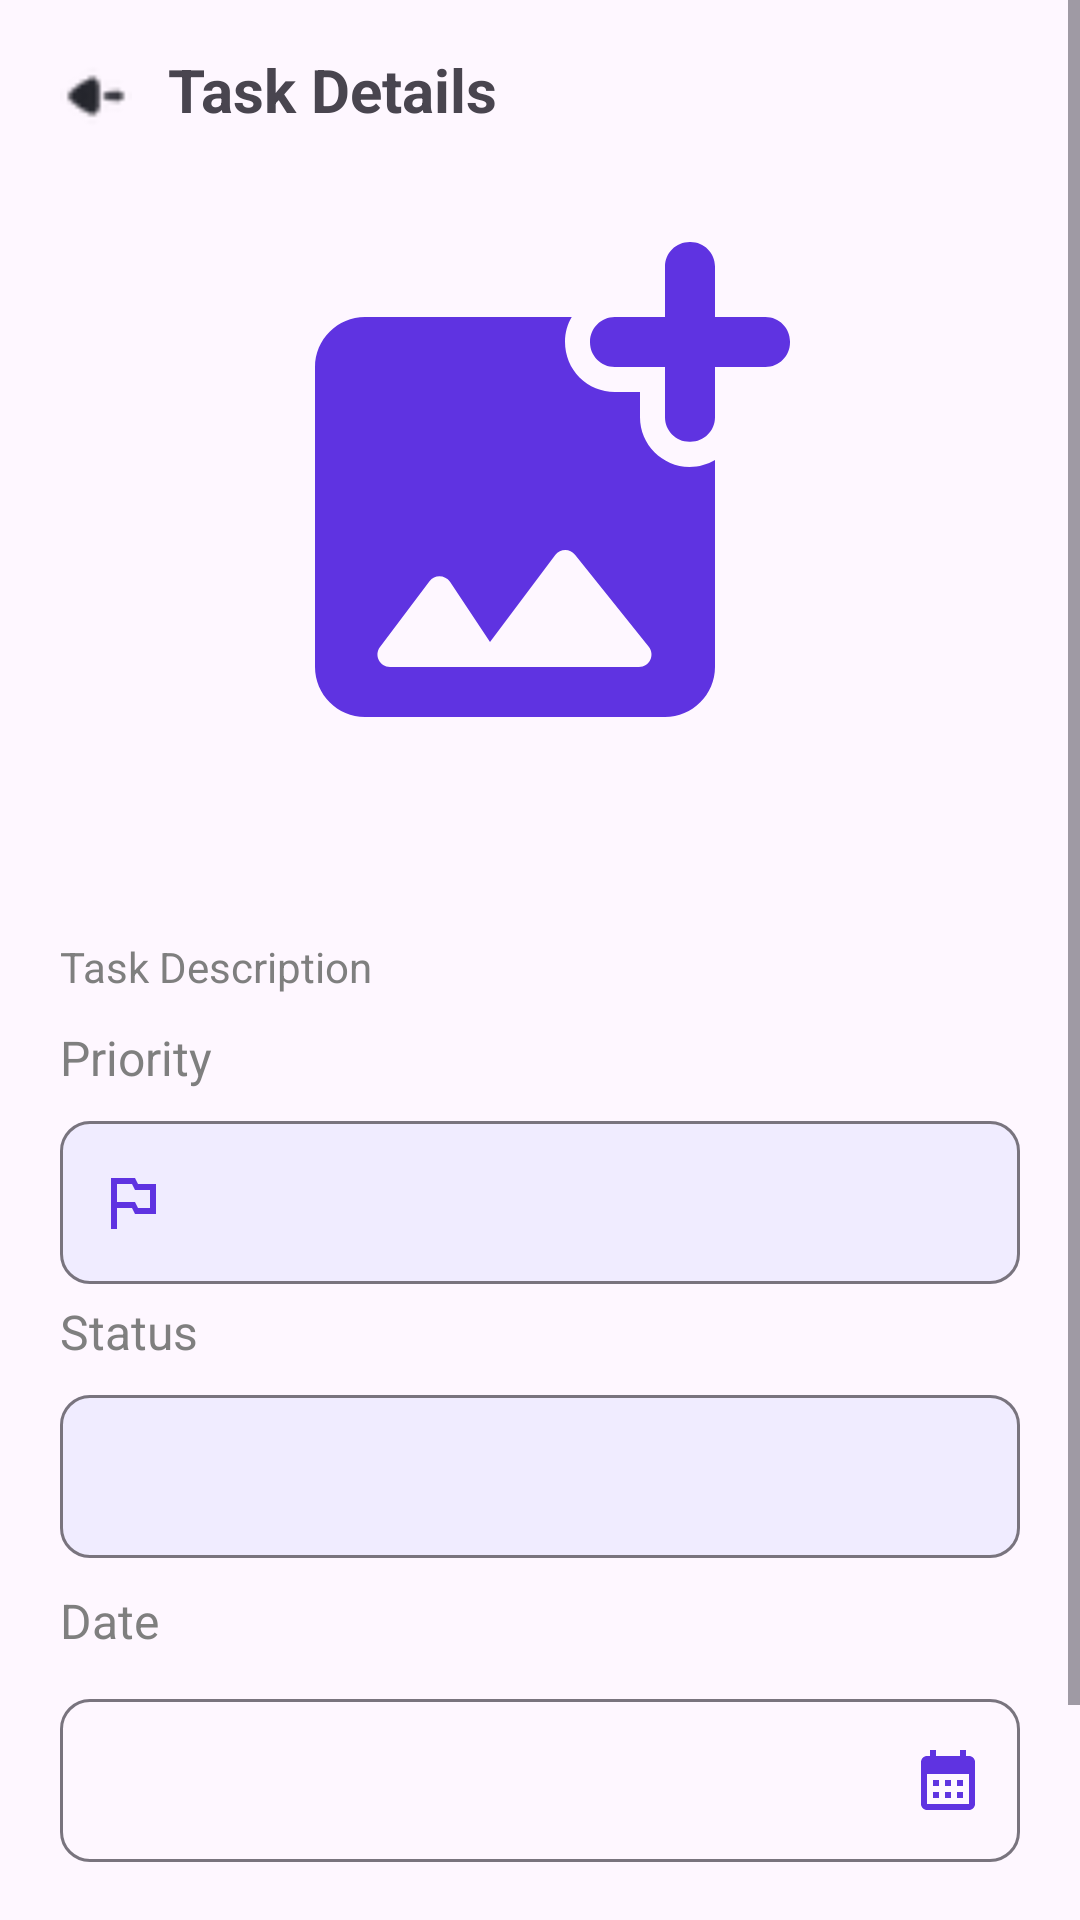

Locate icon controls on the screen. Image size 1080×1920, boxes as (x1, y1, x2, y2).
back arrow: (67, 75, 125, 117)
